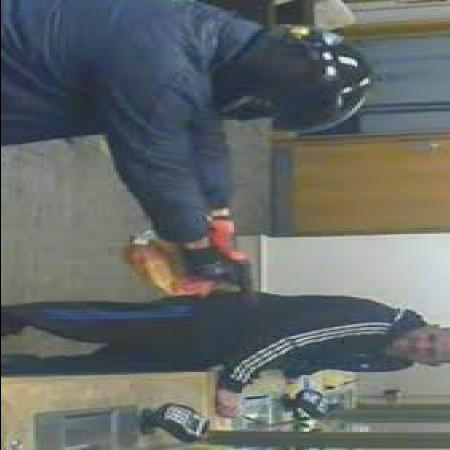Pistol: (163, 249, 268, 315)
